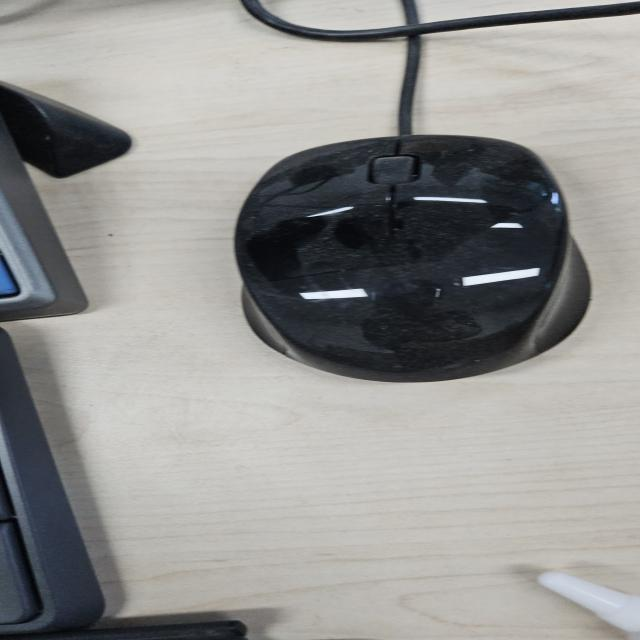Mouse: (230, 132, 594, 384)
